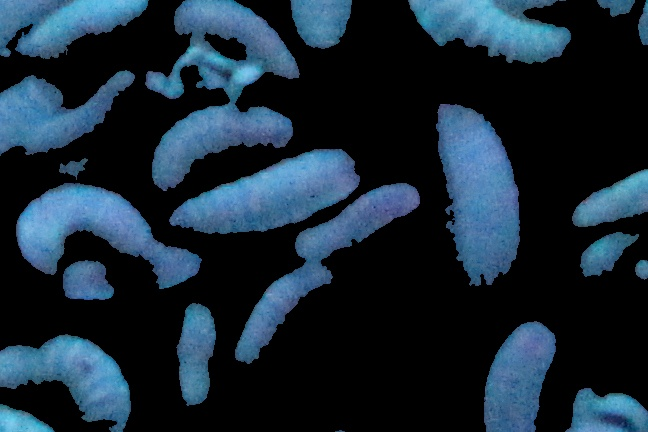larvae: (434, 101, 521, 288), (170, 148, 360, 230), (152, 105, 293, 193), (16, 185, 153, 271), (407, 1, 572, 67), (171, 1, 303, 80), (237, 264, 333, 370), (25, 70, 138, 154), (40, 334, 136, 430), (295, 186, 421, 259), (481, 315, 557, 432), (58, 245, 204, 301), (19, 1, 149, 58), (171, 304, 219, 408), (571, 170, 648, 228), (288, 1, 353, 54), (595, 391, 647, 432)
